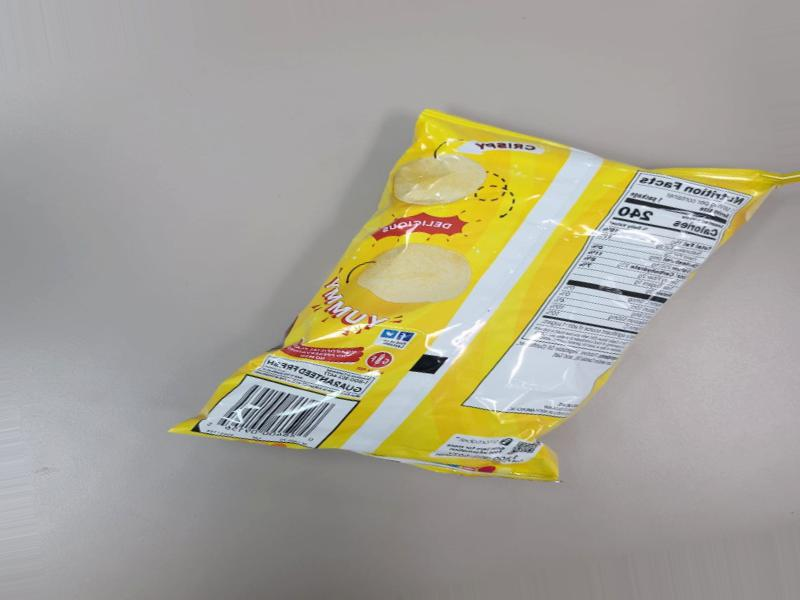lays: (125, 81, 800, 495)
